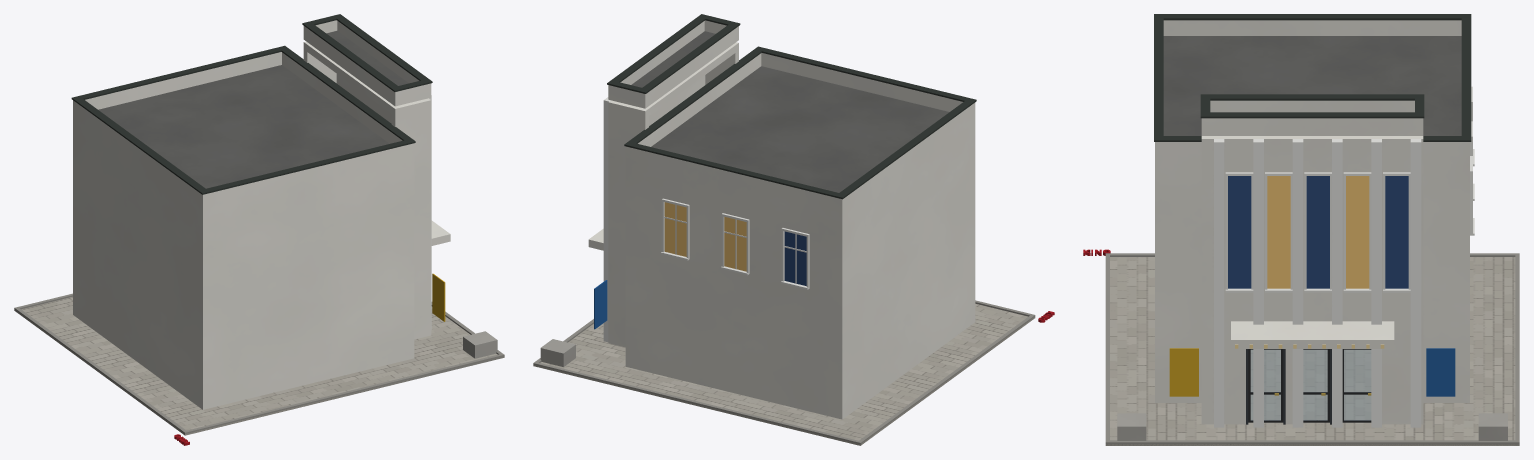
Rendered from dum_27_kino.glb.
3 renders of one model, left to right at view 1: azimuth 30°, elevation 25°; view 2: azimuth 150°, elevation 25°; view 3: azimuth 270°, elevation 25°, orthographic. The views are drawn at different scales.
Parts seen in each view (by area): view 1: dum; view 2: dum, noc; view 3: dum, noc, dvere_02, dvere_01, dvere_00.
Part boxes in pixels (x1,y1,x2,y2): dum: [14, 14, 504, 445]; dum: [533, 14, 1054, 445]; noc: [664, 202, 746, 271]; dum: [1083, 14, 1519, 445]; noc: [1267, 176, 1369, 288]; dvere_02: [1342, 349, 1371, 422]; dvere_01: [1303, 349, 1329, 422]; dvere_00: [1248, 349, 1283, 422].
Size of the model in its own units: 13.94 by 10.38 by 13.18.
3 materials, 2 textured.
